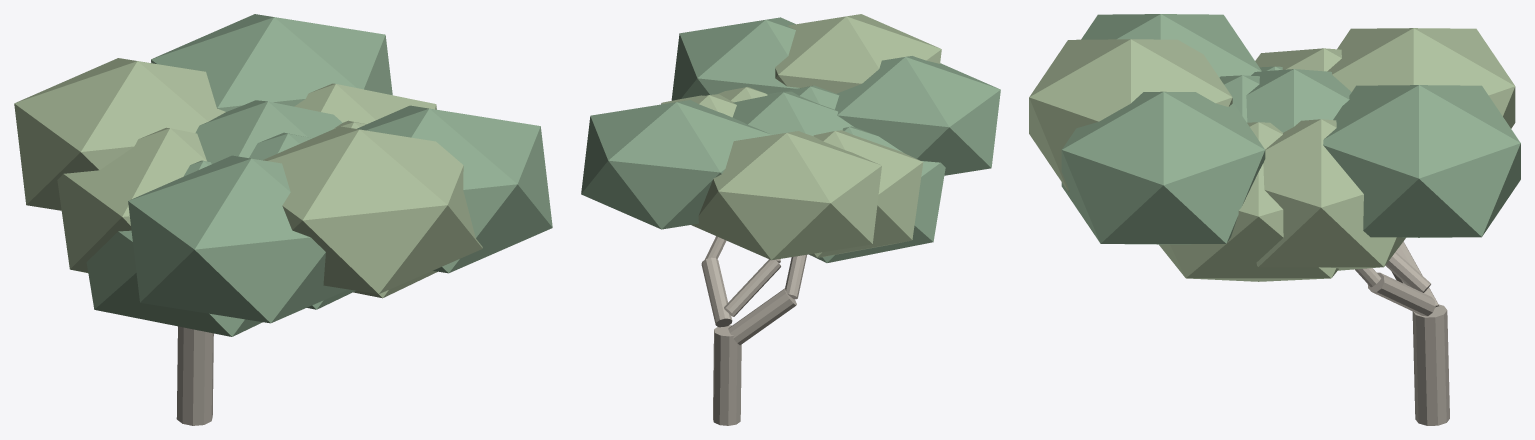
The model's file is plane-tree-massing-a.glb.
3 views of the same model, side by side, from view 1: azimuth 30°, elevation 25°; view 2: azimuth 150°, elevation 25°; view 3: azimuth 270°, elevation 25° (orthographic). The views are drawn at different scales.
Visible parts, largest first — view 1: plane-tree-massing-a; view 2: plane-tree-massing-a; view 3: plane-tree-massing-a.
Part boxes in pixels (<box>): plane-tree-massing-a: <box>14,14,552,425</box>; plane-tree-massing-a: <box>581,14,1000,425</box>; plane-tree-massing-a: <box>1029,14,1520,425</box>.
Size of the model in its own units: 8.07 by 7.76 by 9.04.
